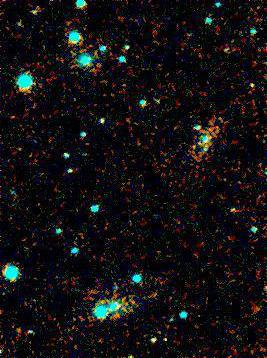star: (8, 316, 38, 346)
